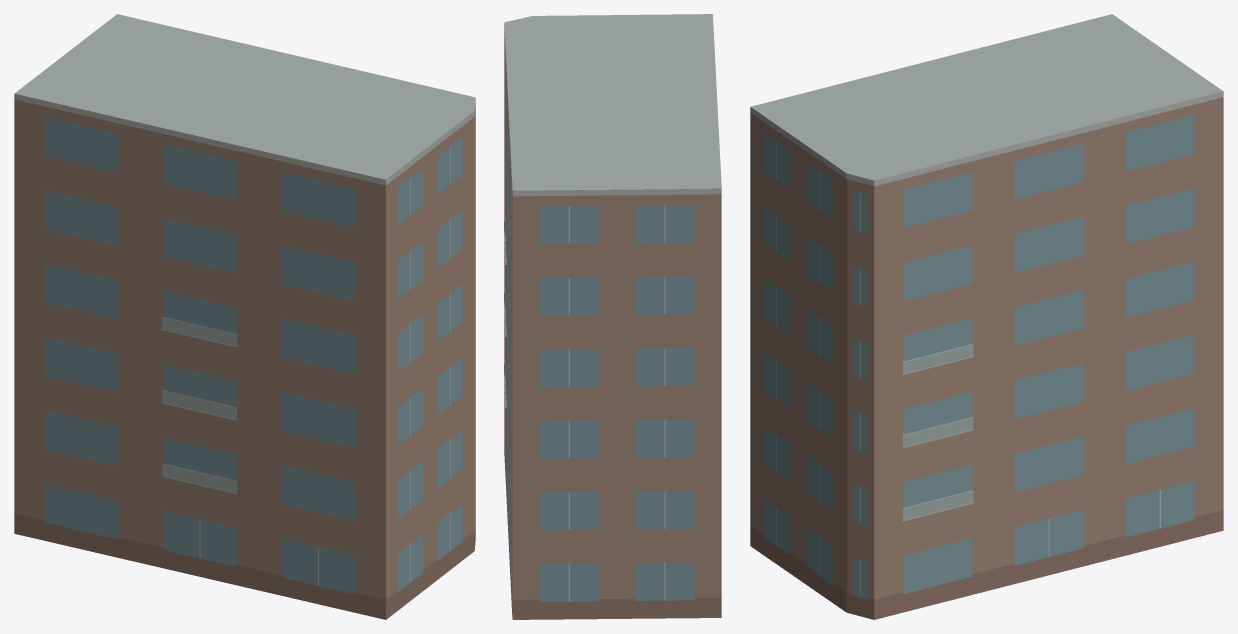
The model's file is survey-upis-32529204.glb.
The picture shows the model from 3 angles, left to right: view 1: azimuth 30°, elevation 25°; view 2: azimuth 150°, elevation 25°; view 3: azimuth 270°, elevation 25°; orthographic projection. The views are drawn at different scales.
Visible parts, largest first — view 1: survey-upis-32529204.tmp; view 2: survey-upis-32529204.tmp; view 3: survey-upis-32529204.tmp.
Part boxes in pixels (left/top/right/bottom): survey-upis-32529204.tmp: left=14, top=14, right=475, bottom=619; survey-upis-32529204.tmp: left=504, top=14, right=721, bottom=619; survey-upis-32529204.tmp: left=750, top=14, right=1223, bottom=619.
Size of the model in its own units: 15.14 by 18.6 by 18.17.
